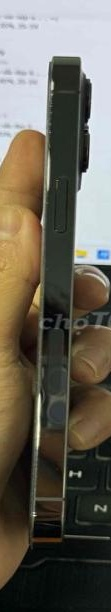scratch: (37, 76, 62, 159)
